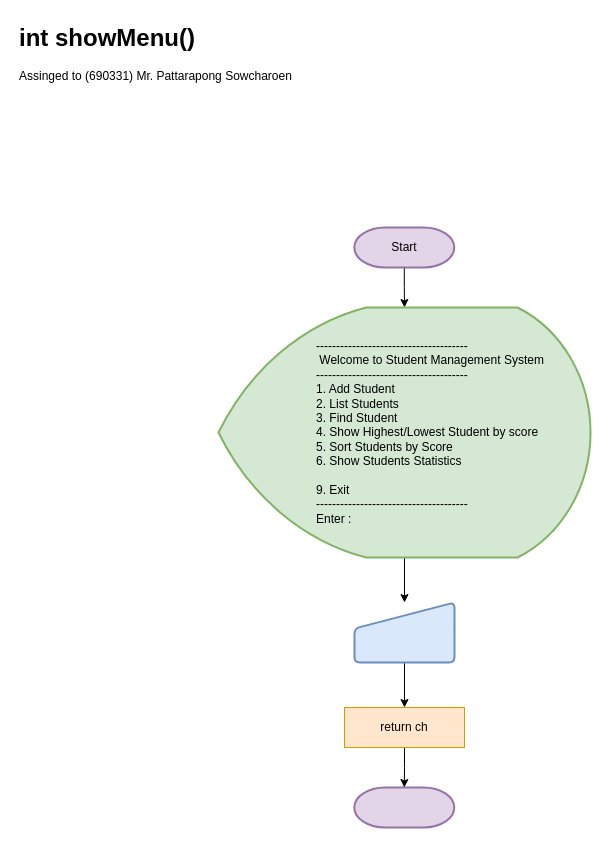
Image size: 609x845. Some labels were removed from this diagram. Here are the shapes that lost their labels. From the top down, the box of each, then its label:
(353, 601, 455, 663): ch
(353, 786, 455, 828): Stop
